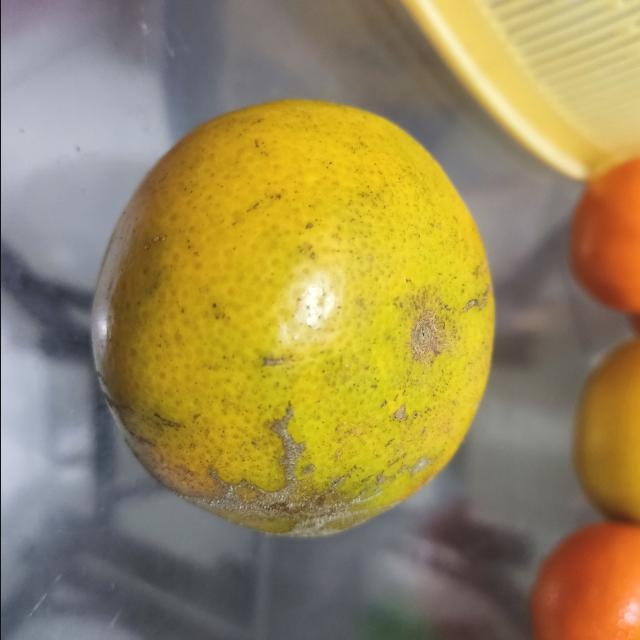agrume: (87, 100, 493, 540)
